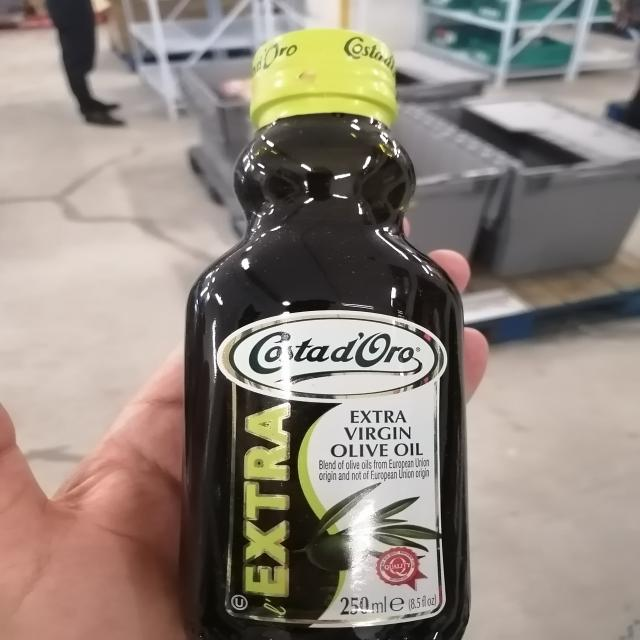object_name: (194, 36, 465, 640)
